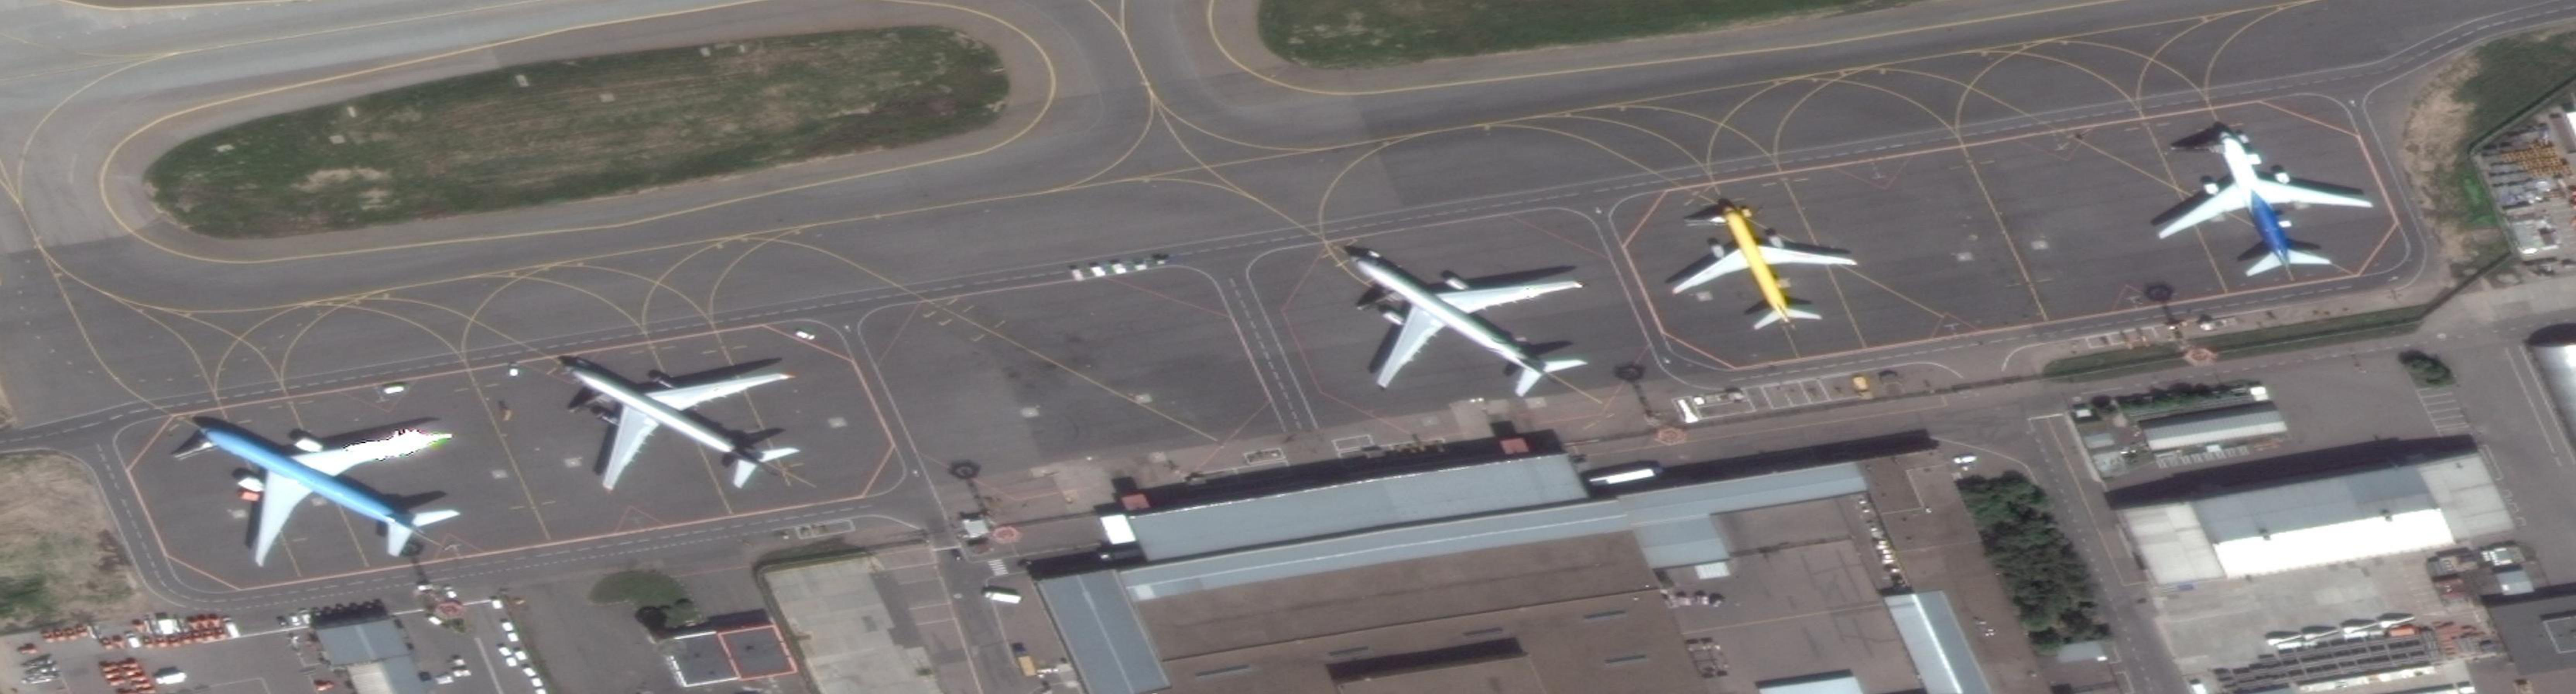plane: (154, 340, 493, 622), (1286, 191, 1628, 467), (516, 291, 831, 549), (2126, 95, 2395, 312), (1641, 163, 1878, 360)
